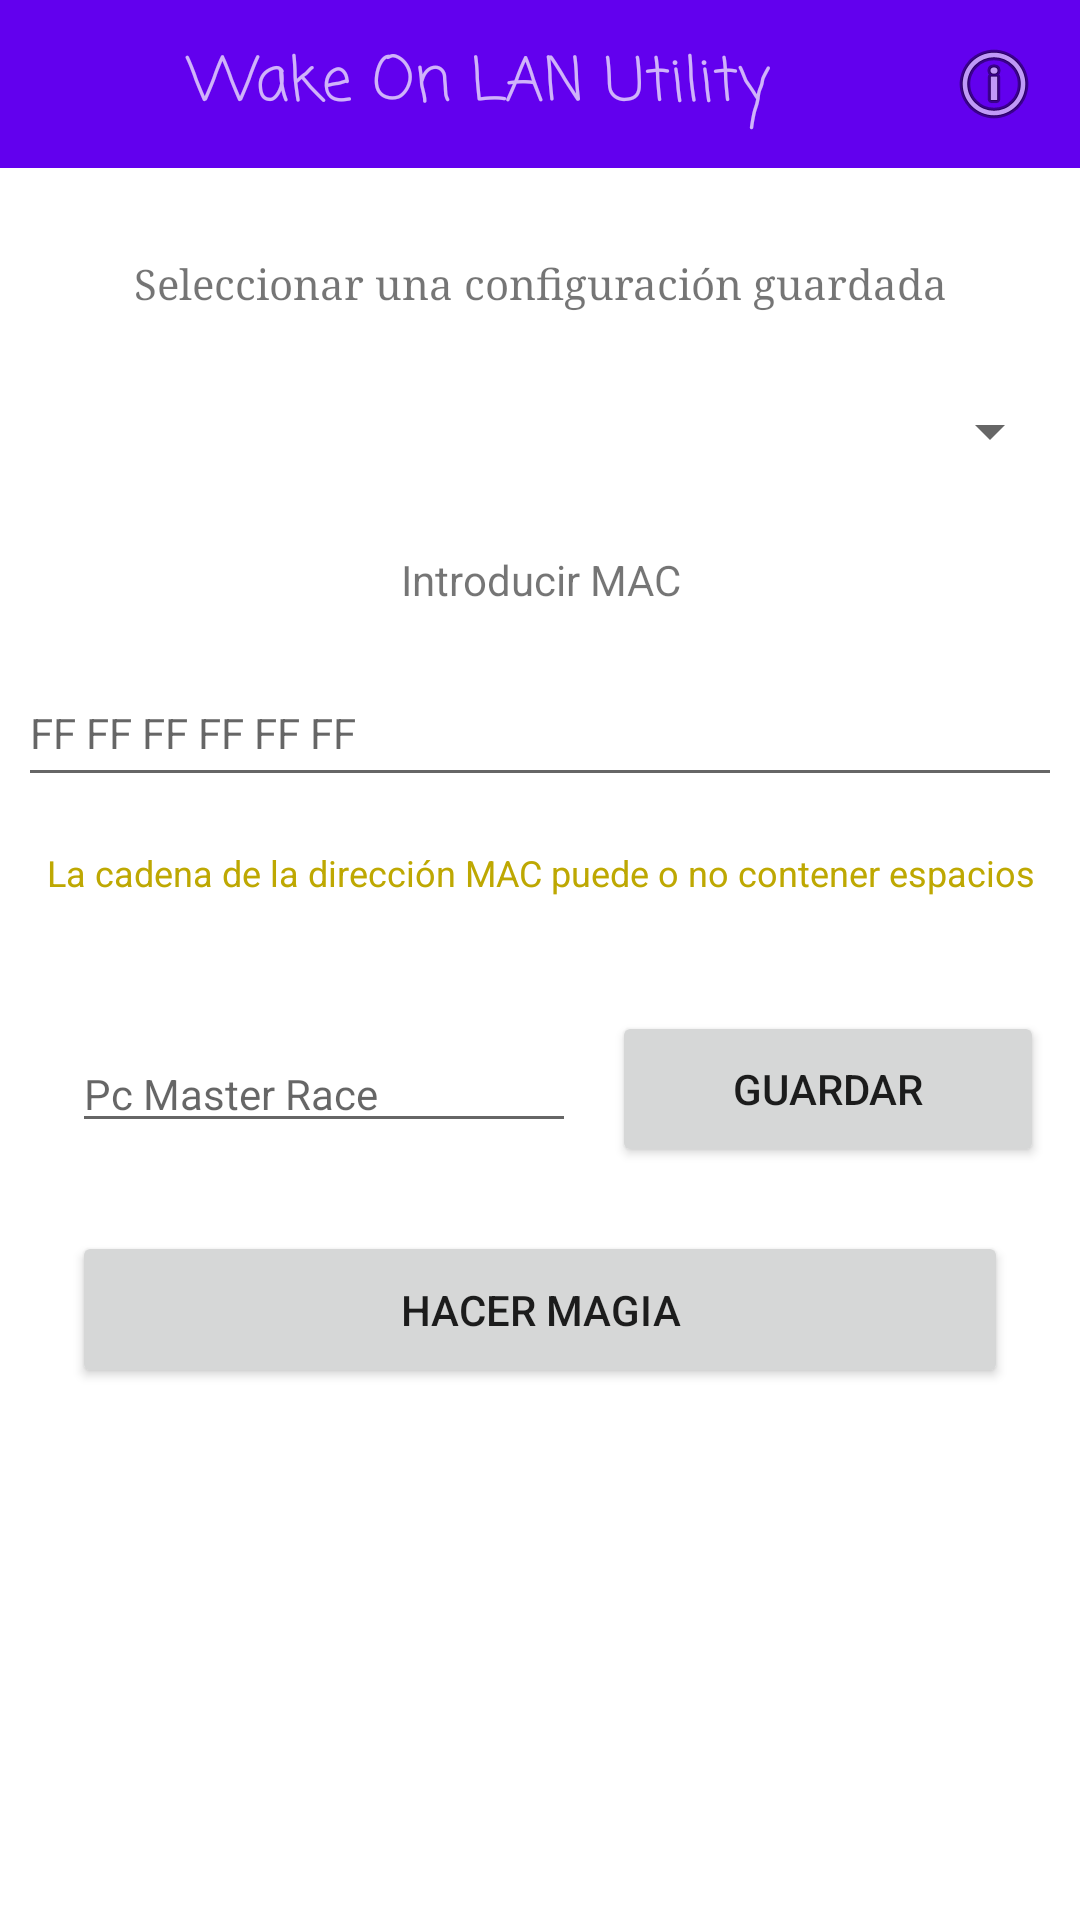

Icon bounding boxes for this 1080 × 1920 phone screenshot, format bbox(x1, y1, x2, y2):
info details: bbox(959, 49, 1029, 119)
